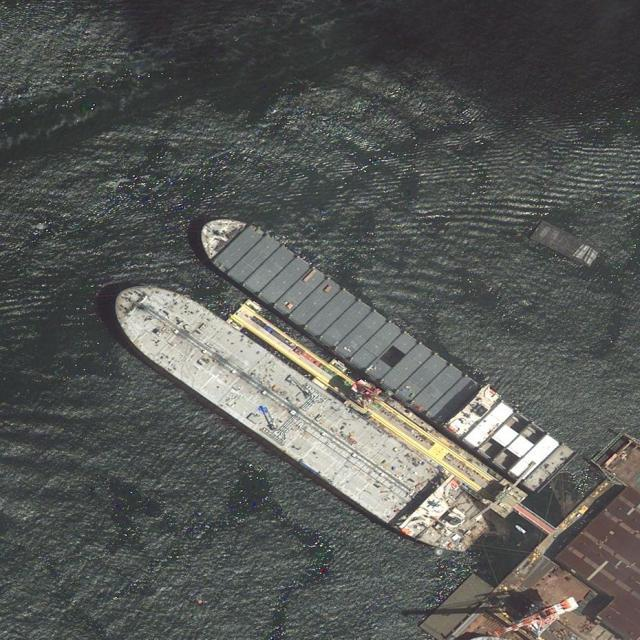Cargo: (186, 193, 581, 504)
Dock: (227, 298, 567, 539)
Oil Tanker: (96, 255, 506, 585)
